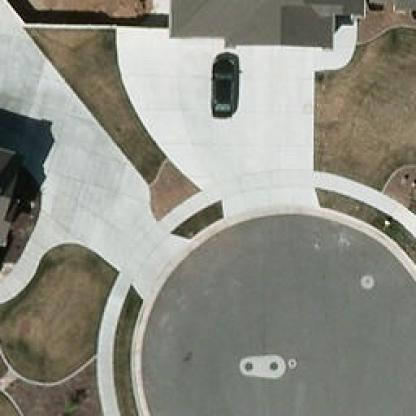car: (210, 55, 236, 119)
